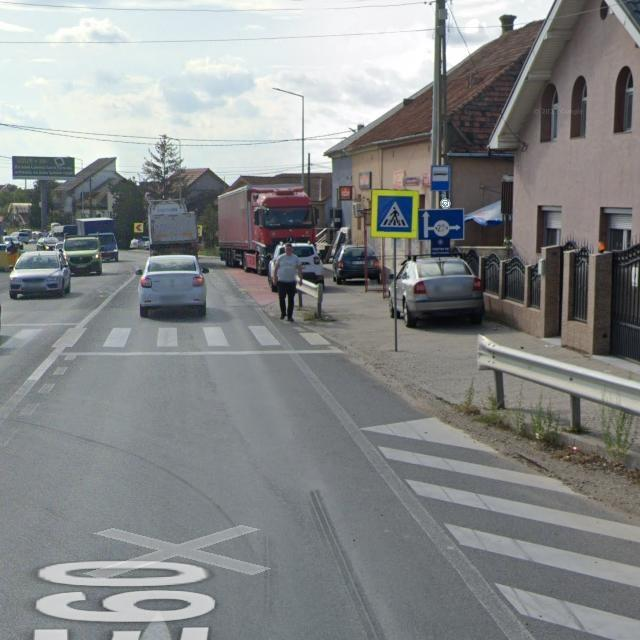info_crosswalk: (372, 189, 418, 239)
